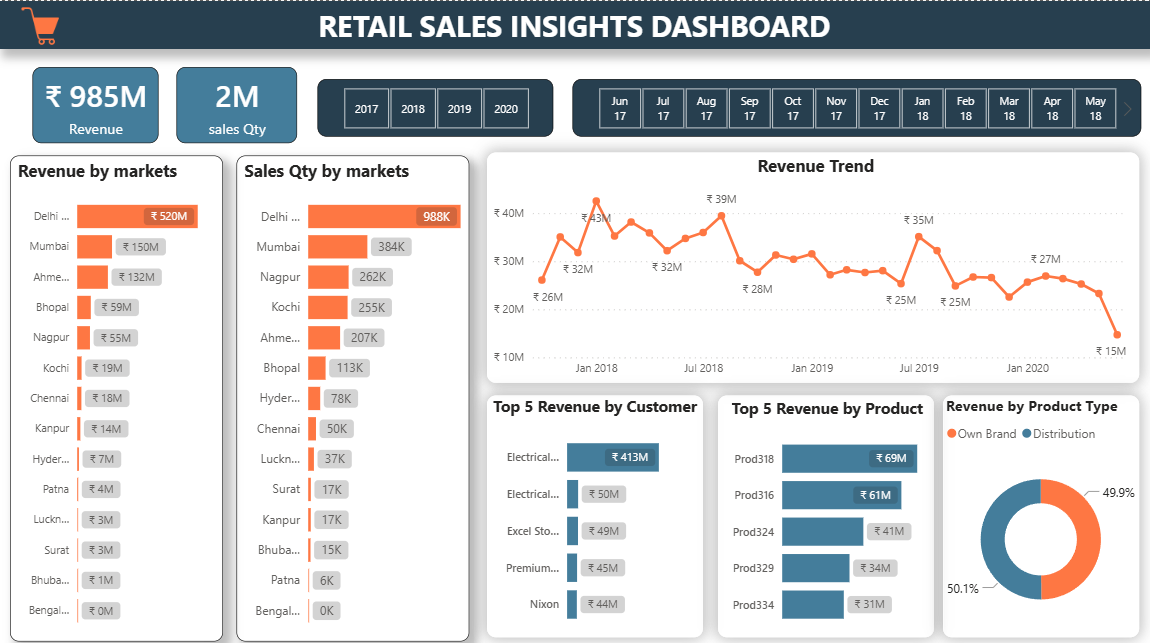

Layout of this report page (visuals, bound fields, positions):
{"tool":"powerbi","page":{"name":"Key Insight","canvas":[1280,720],"ordinal":0},"visuals":[{"type":"textbox","box":[0,0,1280.5,53],"z":0},{"type":"card","fields":{"Values":["Base Measures 2.Revenue"]},"box":[37.8,72.8,139.7,84.4],"z":6000},{"type":"card","fields":{"Values":["Base Measures 2.sales Qty"]},"box":[198,72.8,133.9,84.4],"z":7000},{"type":"barChart","title":"Revenue by markets","fields":{"Category":["sales markets.markets_name"],"Y":["Base Measures 2.Revenue"]},"box":[13.3,171.7,236.7,540],"z":8000},{"type":"barChart","title":"Sales Qty by markets","fields":{"Category":["sales markets.markets_name"],"Y":["Base Measures 2.sales Qty"]},"box":[265,171.7,258.3,540],"z":9000},{"type":"slicer","fields":{"Values":["sales date.year"]},"box":[355.2,87.3,262,64],"z":12000},{"type":"slicer","fields":{"Values":["sales date.cy_date"]},"box":[637.5,87.3,631.7,64],"z":13000},{"type":"shape","box":[543.9,168.8,724.8,255.7],"z":14000},{"type":"shape","box":[543.9,439,240,268.9],"z":15000},{"type":"shape","box":[799.6,439,240,268.9],"z":16000},{"type":"shape","box":[1050.5,439,218.3,268.9],"z":17000},{"type":"lineChart","title":"Revenue Trend","fields":{"Y":["Base Measures 2.Revenue"],"Category":["sales date.cy_date"]},"box":[545.1,170.1,727.2,255.7],"z":18000},{"type":"barChart","title":"Top 5 Revenue by Customer","fields":{"Y":["Base Measures 2.Revenue"],"Category":["sales customers.custmer_name"]},"box":[545.1,439,240,270.2],"z":19000},{"type":"barChart","title":"Top 5 Revenue by Product","fields":{"Y":["Base Measures 2.Revenue"],"Category":["sales products.product_code"]},"box":[810,440,240,268.3],"z":20000},{"type":"donutChart","title":"Revenue by Product Type","fields":{"Category":["sales products.product_type"],"Y":["Base Measures 2.Revenue"]},"box":[1048.3,438.3,220,268.3],"z":21000},{"type":"image","box":[0,0,95,53.3],"z":21001}]}

Visuals, with their boxes in screenshot pixels (x1, y1, x2, y2), scaled from the page's 1280x720 canvas onto the 1150x643 screenshot:
textbox: (0, 0, 1149, 47)
card - Base Measures 2.Revenue: (34, 65, 159, 140)
card - Base Measures 2.sales Qty: (178, 65, 298, 140)
"Revenue by markets" barChart: (12, 153, 225, 636)
"Sales Qty by markets" barChart: (238, 153, 470, 636)
slicer - sales date.year: (319, 78, 555, 135)
slicer - sales date.cy_date: (573, 78, 1140, 135)
shape: (489, 151, 1140, 379)
shape: (489, 392, 704, 632)
shape: (718, 392, 934, 632)
shape: (944, 392, 1140, 632)
"Revenue Trend" lineChart: (490, 152, 1143, 380)
"Top 5 Revenue by Customer" barChart: (490, 392, 705, 633)
"Top 5 Revenue by Product" barChart: (728, 393, 943, 633)
"Revenue by Product Type" donutChart: (942, 391, 1139, 631)
image: (0, 0, 85, 48)
